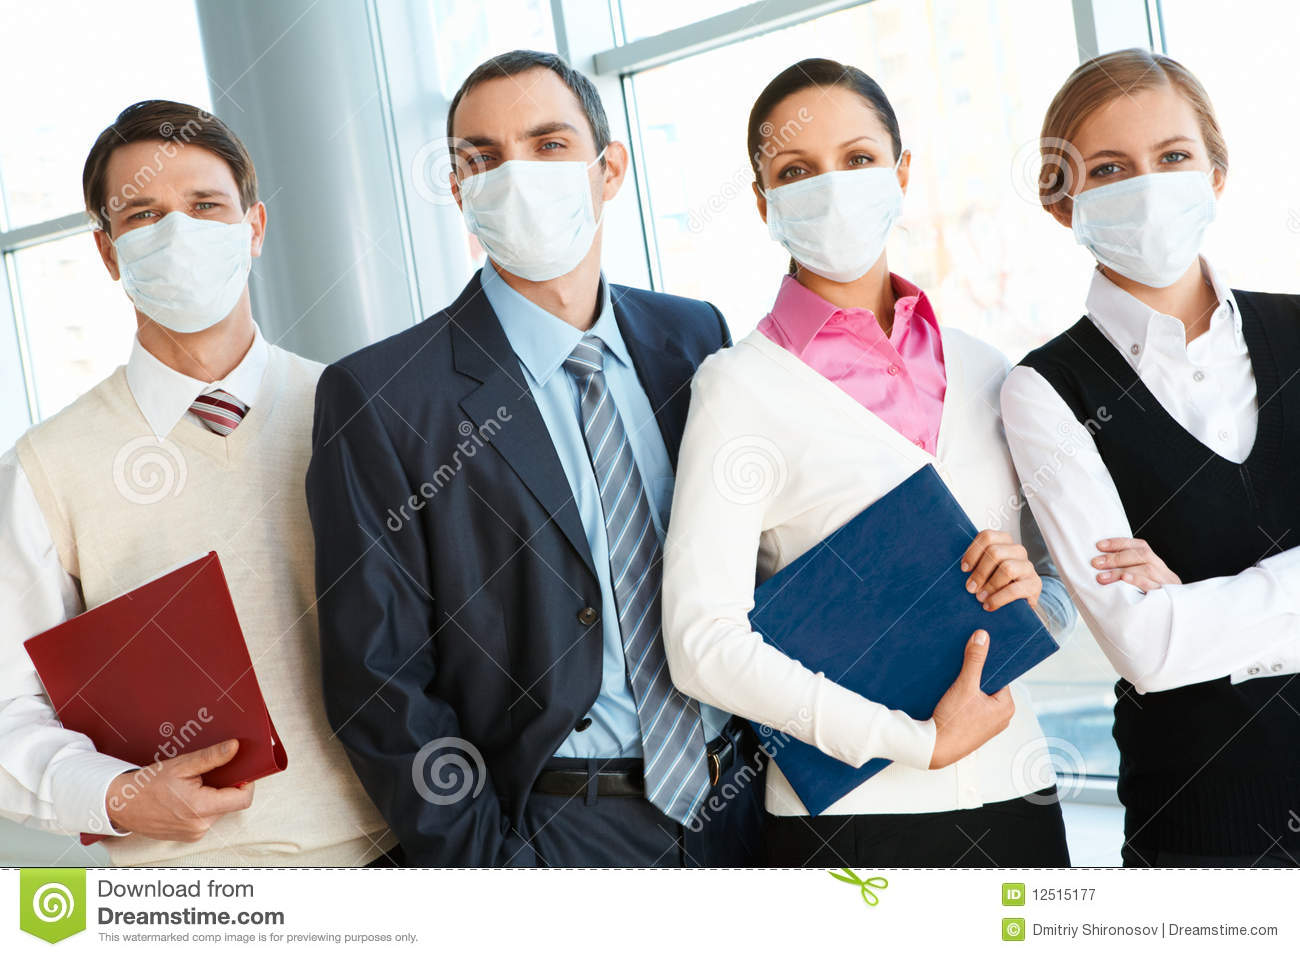mask: (117, 210, 253, 338), (1069, 174, 1218, 288), (460, 157, 595, 283), (765, 170, 904, 283)
